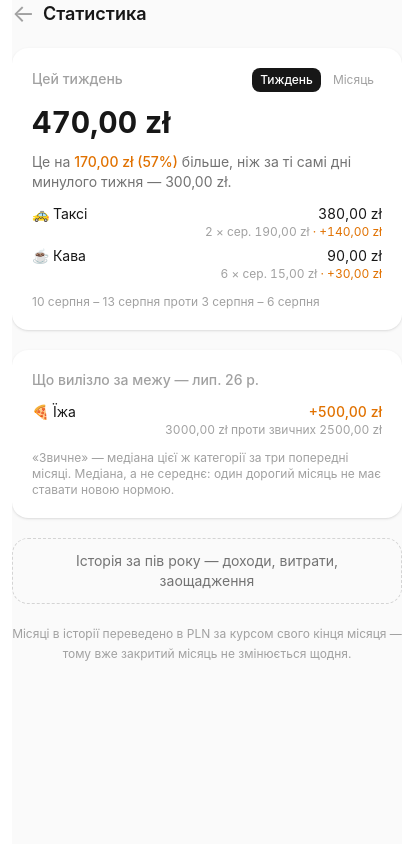
Stats › breaks the selected month down by category, biggest first
What coordinates should you click on to do the following:
click the button "Історія за пів року — доходи, витрати, заощадження"
I would click on:
 (207, 571)
Its box is [12,538,402,604].
(page scrolled)
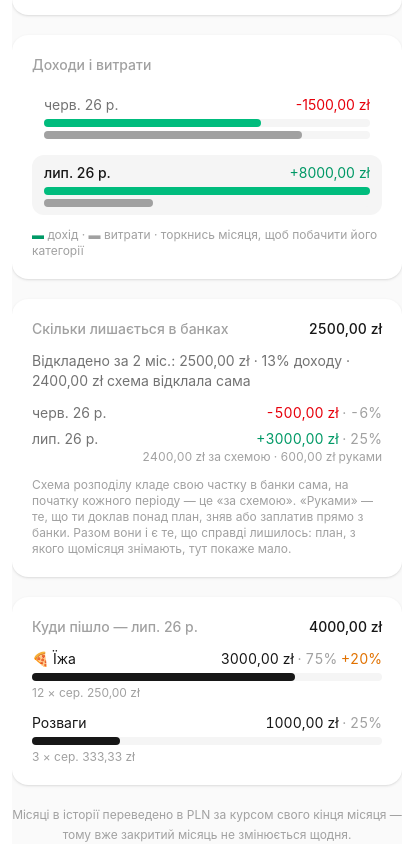
expect the text "· 75%" is shown: met, box [294,650,337,667]
